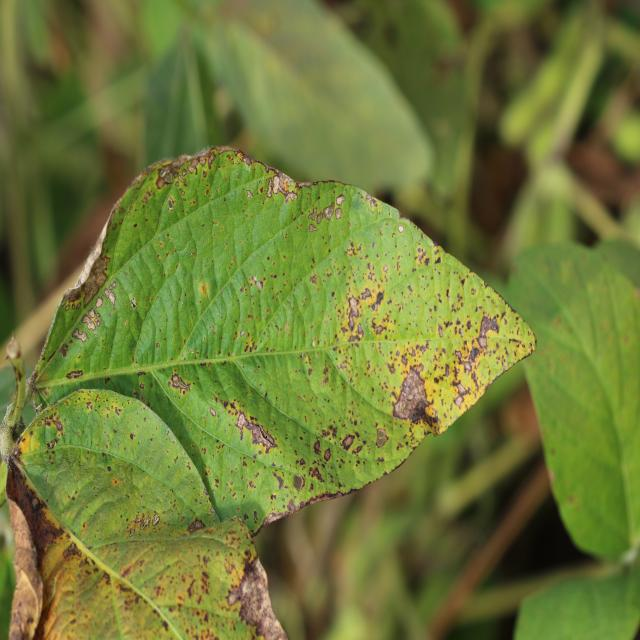Bacterial_Blight: (0, 147, 536, 554), (389, 358, 435, 423), (7, 565, 43, 639), (236, 565, 269, 627), (235, 410, 279, 454), (79, 252, 110, 306), (23, 369, 42, 409), (268, 172, 296, 198), (477, 313, 499, 342), (5, 334, 23, 363), (169, 373, 192, 394), (155, 167, 175, 189), (347, 295, 361, 325), (61, 542, 81, 561), (319, 423, 338, 441), (345, 239, 361, 258), (186, 518, 206, 533), (415, 247, 430, 266), (508, 337, 527, 352), (72, 328, 89, 344), (222, 398, 239, 414), (308, 465, 324, 482), (227, 587, 241, 606), (371, 291, 384, 310), (18, 434, 31, 453), (341, 433, 355, 450), (293, 473, 305, 492), (376, 428, 387, 448), (455, 382, 468, 398), (272, 472, 284, 489), (198, 281, 210, 298), (323, 204, 335, 220), (469, 346, 480, 363), (65, 369, 83, 379), (251, 277, 263, 292), (266, 178, 274, 197), (59, 343, 69, 358), (323, 447, 332, 463), (313, 439, 322, 455), (141, 190, 152, 203), (567, 493, 578, 506), (188, 159, 198, 173), (308, 207, 317, 222), (140, 517, 151, 529), (46, 439, 57, 450), (167, 196, 175, 211), (375, 323, 385, 335), (454, 349, 463, 362), (437, 324, 444, 338), (310, 274, 318, 285), (130, 297, 137, 309), (153, 513, 160, 525), (32, 497, 39, 508), (246, 190, 254, 199), (209, 407, 216, 417), (129, 526, 136, 536), (86, 401, 93, 410), (115, 407, 122, 416), (398, 224, 404, 233), (65, 302, 70, 311), (129, 433, 135, 440), (470, 288, 476, 295), (240, 330, 245, 338)
